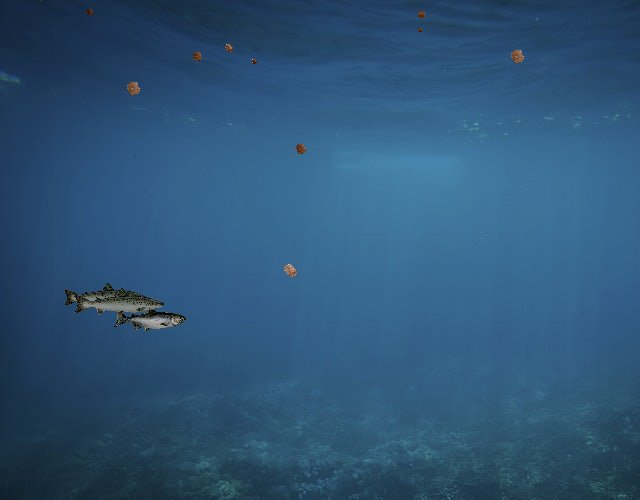Fish: (73, 286, 167, 320), (62, 281, 148, 312), (114, 307, 187, 333)
Pellet: (276, 256, 304, 284), (119, 74, 147, 102), (290, 138, 312, 160), (220, 39, 238, 57), (248, 56, 260, 68)
